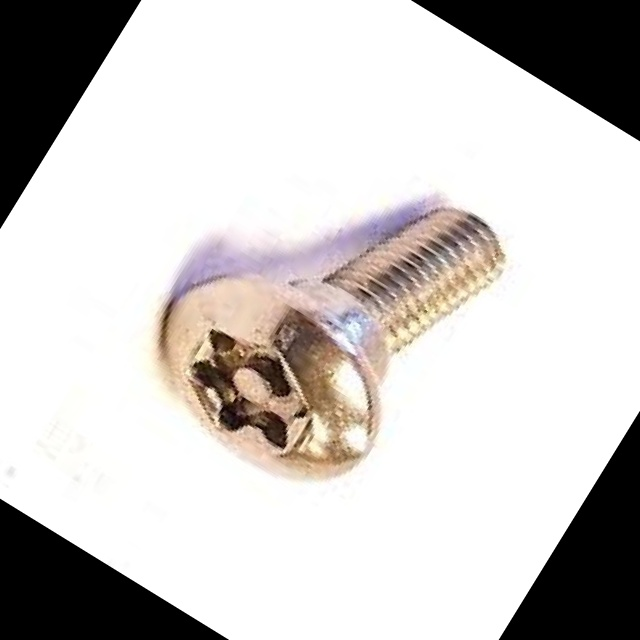torx: (121, 240, 423, 517)
